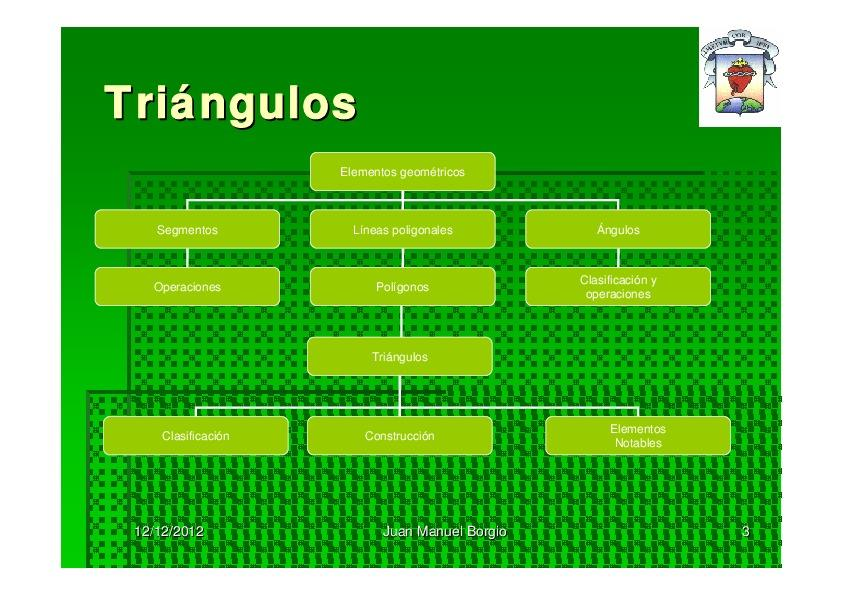title: (99, 69, 369, 139)
